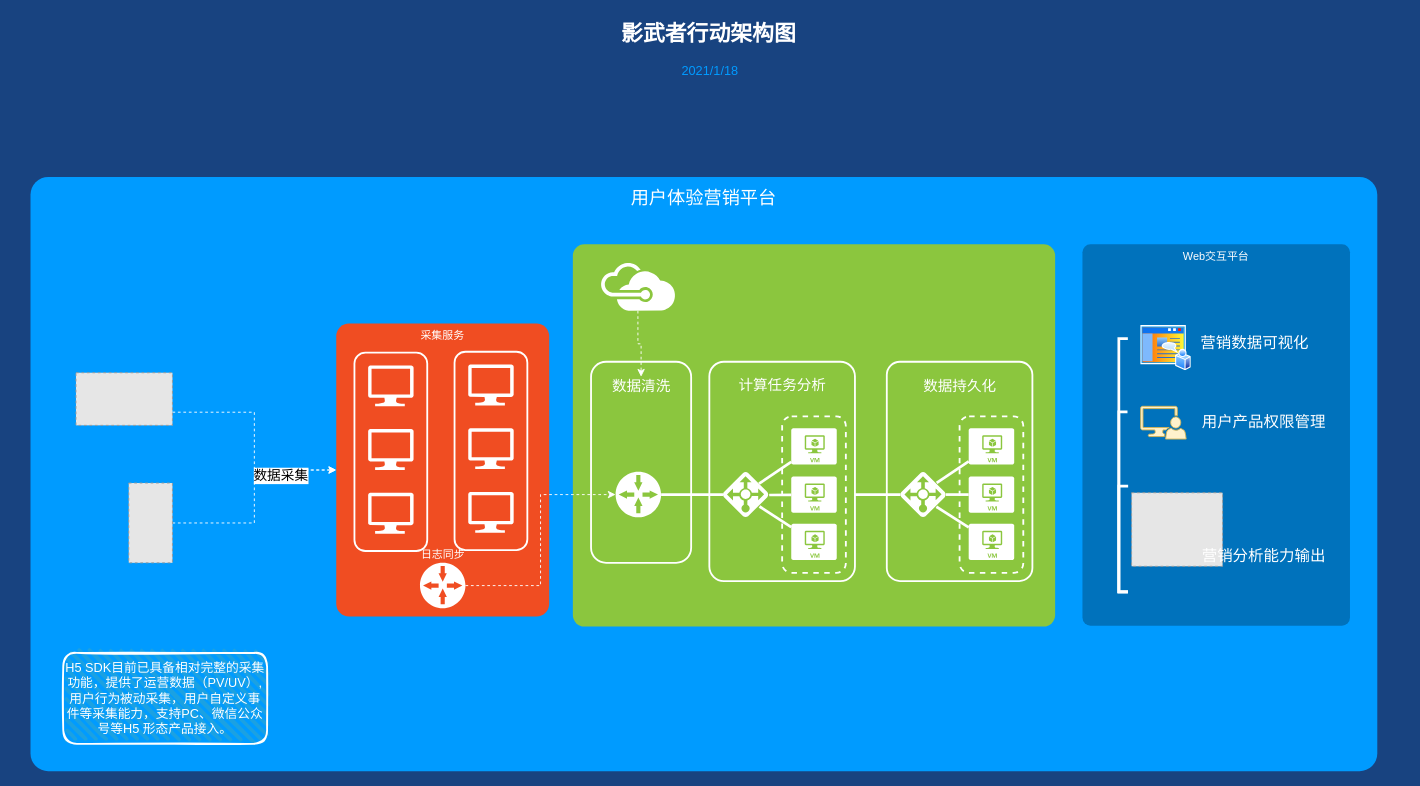
The diagram is 1420 pixels wide and 786 high, and some of its shapes have lost their labels. Grey dashed boxes stand in for pictures. The centre of each missing label's shape, as x and y in pixels:
Gateway: point (638, 494)
大数据分析集群: point (637, 286)
